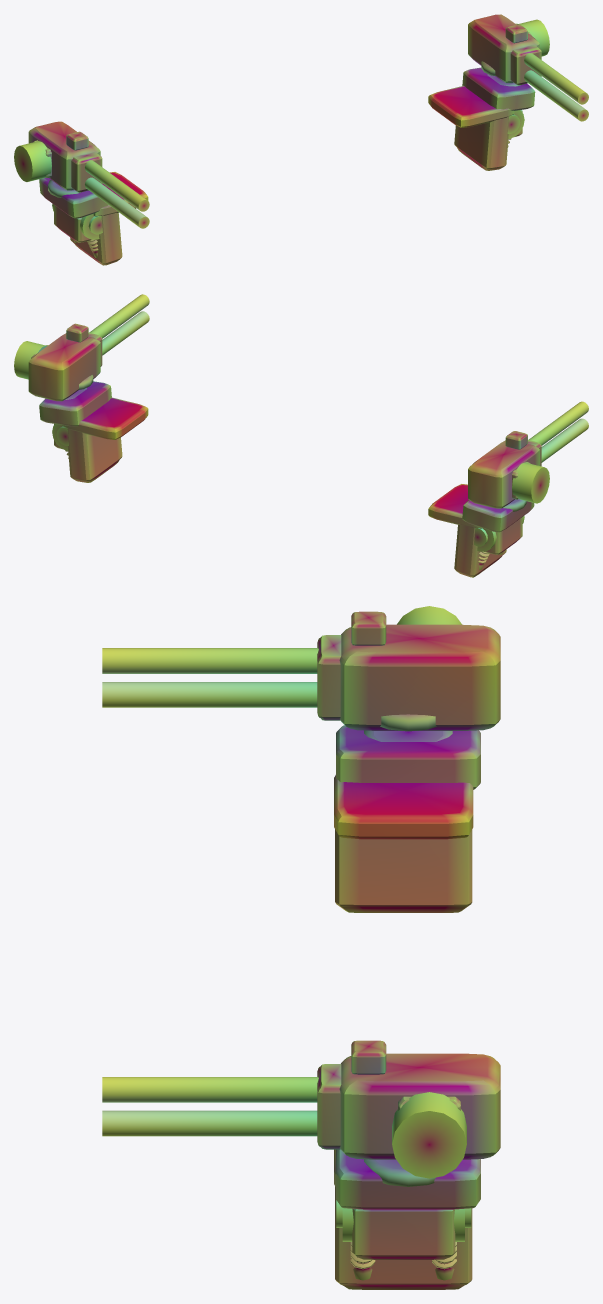
The model's file is llm_gen_shoulder_pods_024_e890a6.glb.
3 renders of one model, top to bottom at view 1: azimuth 30°, elevation 25°; view 2: azimuth 150°, elevation 25°; view 3: azimuth 270°, elevation 25°, orthographic. The views are drawn at different scales.
Visible parts, largest first — view 1: adapter_shoulder_yoke_r, adapter_shoulder_yoke_l, turret_breech_2_wing_white_r, turret_breech_2_wing_white_l, turret_adapter_base_0_adapter_dark_r, ciws_drum_mag_5_crimson_gloss_l, turret_adapter_base_0_adapter_dark_l, ciws_barrel_top_6_barrel_metal_l, ciws_barrel_bot_7_barrel_metal_l, ciws_barrel_top_6_barrel_metal_r, ciws_barrel_bot_7_barrel_metal_r, adapter_sub_ciws_shroud_dark_3_adapter_dark_r (+4 smaller); view 2: adapter_shoulder_yoke_r, turret_breech_2_wing_white_r, adapter_shoulder_yoke_l, turret_breech_2_wing_white_l, turret_adapter_base_0_adapter_dark_r, turret_adapter_base_0_adapter_dark_l, ciws_drum_mag_5_crimson_gloss_l, ciws_barrel_top_6_barrel_metal_r, ciws_barrel_top_6_barrel_metal_l, ciws_barrel_bot_7_barrel_metal_l, ciws_barrel_bot_7_barrel_metal_r, ciws_drum_mag_5_crimson_gloss_r; view 3: adapter_shoulder_yoke_l, turret_breech_2_wing_white_l, turret_breech_2_wing_white_r, adapter_shoulder_yoke_r, turret_adapter_base_0_adapter_dark_l, ciws_barrel_bot_7_barrel_metal_r, ciws_barrel_top_6_barrel_metal_r, ciws_barrel_top_6_barrel_metal_l, ciws_barrel_bot_7_barrel_metal_l, turret_adapter_base_0_adapter_dark_r, ciws_drum_mag_5_crimson_gloss_r, adapter_sub_ciws_shroud_dark_3_adapter_dark_l (+6 smaller).
Boxes of the visible parts, x1=… form: adapter_shoulder_yoke_r: x1=428, y1=85, x2=524, y2=170; adapter_shoulder_yoke_l: x1=52, y1=172, x2=148, y2=265; turret_breech_2_wing_white_r: x1=468, y1=14, x2=539, y2=83; turret_breech_2_wing_white_l: x1=28, y1=121, x2=100, y2=190; turret_adapter_base_0_adapter_dark_r: x1=462, y1=67, x2=535, y2=110; ciws_drum_mag_5_crimson_gloss_l: x1=14, y1=141, x2=51, y2=181; turret_adapter_base_0_adapter_dark_l: x1=39, y1=177, x2=108, y2=218; ciws_barrel_top_6_barrel_metal_l: x1=85, y1=160, x2=149, y2=211; ciws_barrel_bot_7_barrel_metal_l: x1=85, y1=177, x2=149, y2=228; ciws_barrel_top_6_barrel_metal_r: x1=524, y1=53, x2=588, y2=104; ciws_barrel_bot_7_barrel_metal_r: x1=524, y1=70, x2=588, y2=121; adapter_sub_ciws_shroud_dark_3_adapter_dark_r: x1=510, y1=44, x2=541, y2=85; adapter_shoulder_yoke_r: x1=52, y1=397, x2=148, y2=482; turret_breech_2_wing_white_r: x1=28, y1=333, x2=100, y2=401; adapter_shoulder_yoke_l: x1=428, y1=484, x2=524, y2=577; turret_breech_2_wing_white_l: x1=468, y1=440, x2=539, y2=508; turret_adapter_base_0_adapter_dark_r: x1=39, y1=381, x2=111, y2=426; turret_adapter_base_0_adapter_dark_l: x1=462, y1=500, x2=534, y2=532; ciws_drum_mag_5_crimson_gloss_l: x1=512, y1=462, x2=549, y2=503; ciws_barrel_top_6_barrel_metal_r: x1=89, y1=294, x2=149, y2=338; ciws_barrel_top_6_barrel_metal_l: x1=528, y1=401, x2=588, y2=445; ciws_barrel_bot_7_barrel_metal_l: x1=541, y1=418, x2=588, y2=462; ciws_barrel_bot_7_barrel_metal_r: x1=102, y1=311, x2=149, y2=355; ciws_drum_mag_5_crimson_gloss_r: x1=14, y1=341, x2=46, y2=379; adapter_shoulder_yoke_l: x1=334, y1=775, x2=473, y2=912; turret_breech_2_wing_white_l: x1=339, y1=624, x2=500, y2=730; turret_breech_2_wing_white_r: x1=339, y1=1053, x2=500, y2=1159; adapter_shoulder_yoke_r: x1=334, y1=1149, x2=472, y2=1289; turret_adapter_base_0_adapter_dark_l: x1=336, y1=725, x2=480, y2=789; ciws_barrel_bot_7_barrel_metal_r: x1=102, y1=1110, x2=317, y2=1136; ciws_barrel_top_6_barrel_metal_r: x1=102, y1=1077, x2=318, y2=1102; ciws_barrel_top_6_barrel_metal_l: x1=102, y1=648, x2=318, y2=673; ciws_barrel_bot_7_barrel_metal_l: x1=102, y1=682, x2=317, y2=707; turret_adapter_base_0_adapter_dark_r: x1=336, y1=1149, x2=480, y2=1209; ciws_drum_mag_5_crimson_gloss_r: x1=392, y1=1092, x2=466, y2=1178; adapter_sub_ciws_shroud_dark_3_adapter_dark_l: x1=317, y1=635, x2=341, y2=720.
Bounding box in the file's own units: 111 × 27.08 × 37.17.
